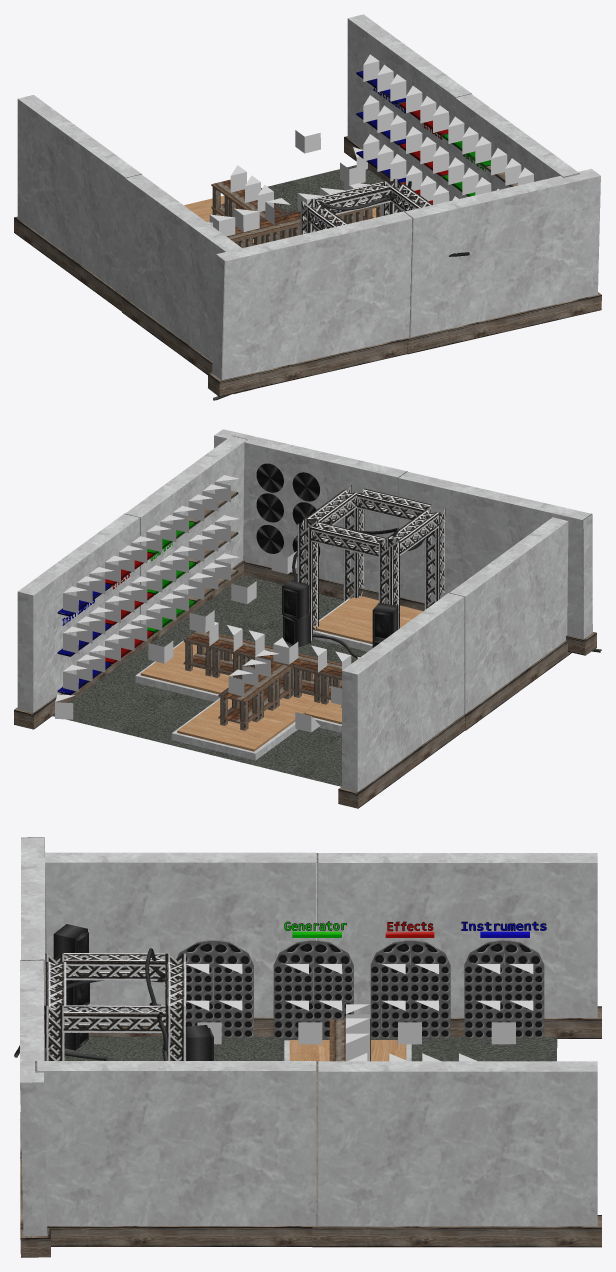
The model's file is base_music_shop.glb.
3 renders of one model, top to bottom at view 1: azimuth 30°, elevation 25°; view 2: azimuth 150°, elevation 25°; view 3: azimuth 270°, elevation 25°, orthographic. The views are drawn at different scales.
Visible parts, largest first — view 1: world, display.{zone:pane10}.002; view 2: world, placement.034; view 3: world, camera.{show:pane1,order:4}.002, camera.{show:pane3,order:6}.004.
Boxes of the visible parts, x1,y1,x2,y2 form: world: (14,14,601,400); display.{zone:pane10}.002: (234,208,259,232); world: (14,429,601,808); placement.034: (273,637,298,664); world: (14,837,601,1257); camera.{show:pane1,order:4}.002: (491,1022,515,1044); camera.{show:pane3,order:6}.004: (298,1022,322,1044).
Size of the model in its own units: 28.02 by 9.75 by 28.47.
1 material, 1 textured.
